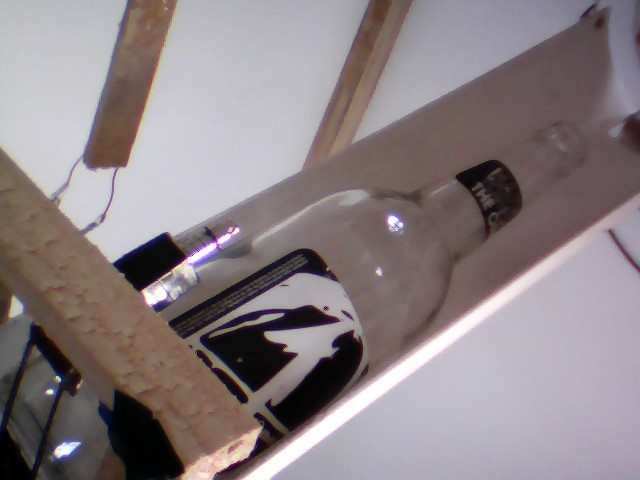vidrio: (222, 107, 587, 459)
